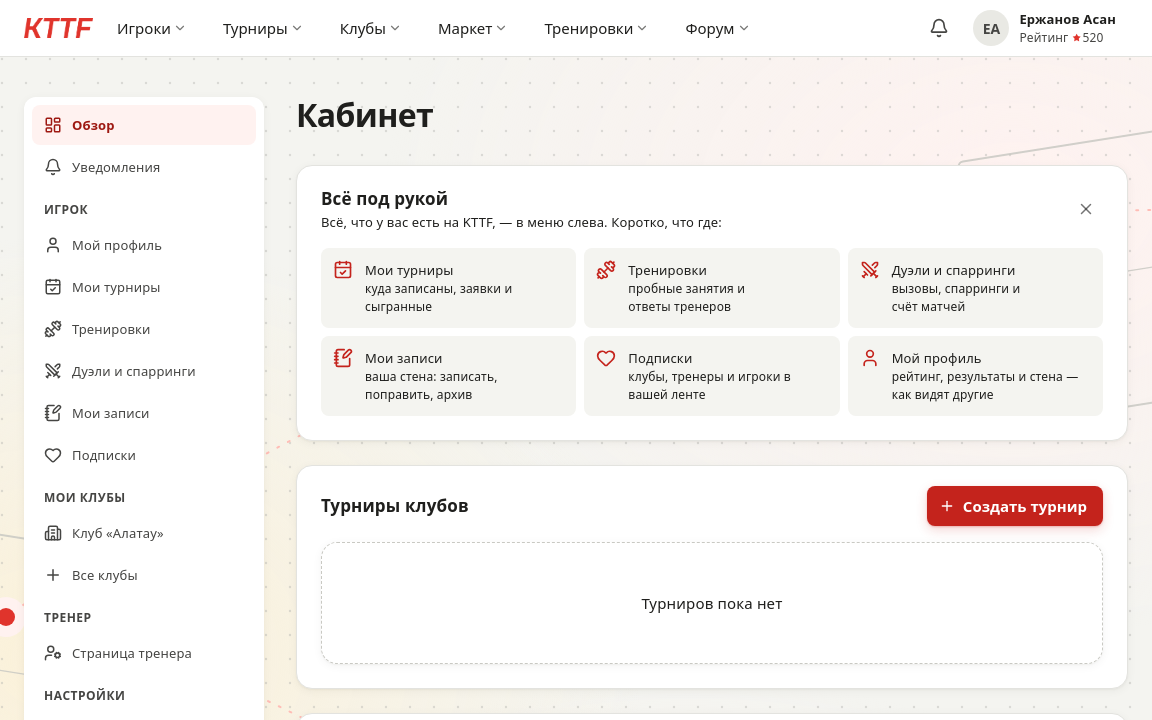
Test: шапка вошедшего — ADR-048 › имя и рейтинг вместо слова «Кабинет», меню ведёт на публичный профиль
Click the button with aria-label "Мой аккаунт".
click(1049, 28)  # box 969,6 -> 1128,50
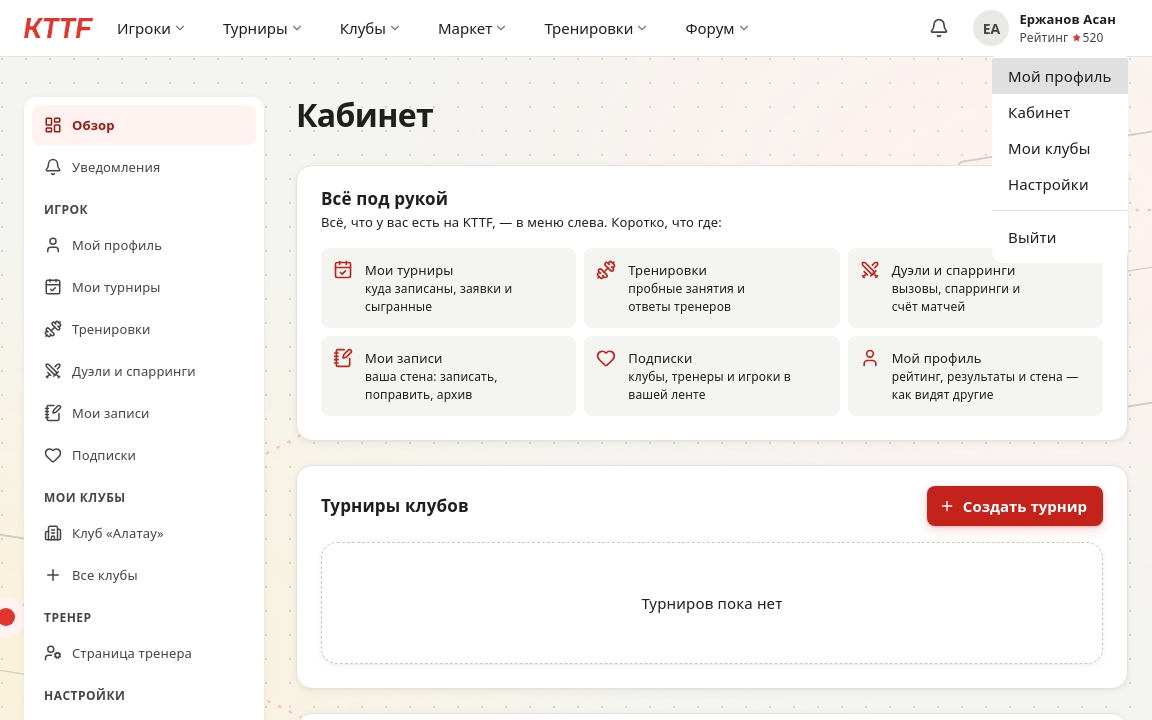
Now the menu item "Мои клубы" is shown, box 1008,138 -> 1090,158
Now the menu item "Настройки" is shown, box 1008,174 -> 1089,194
